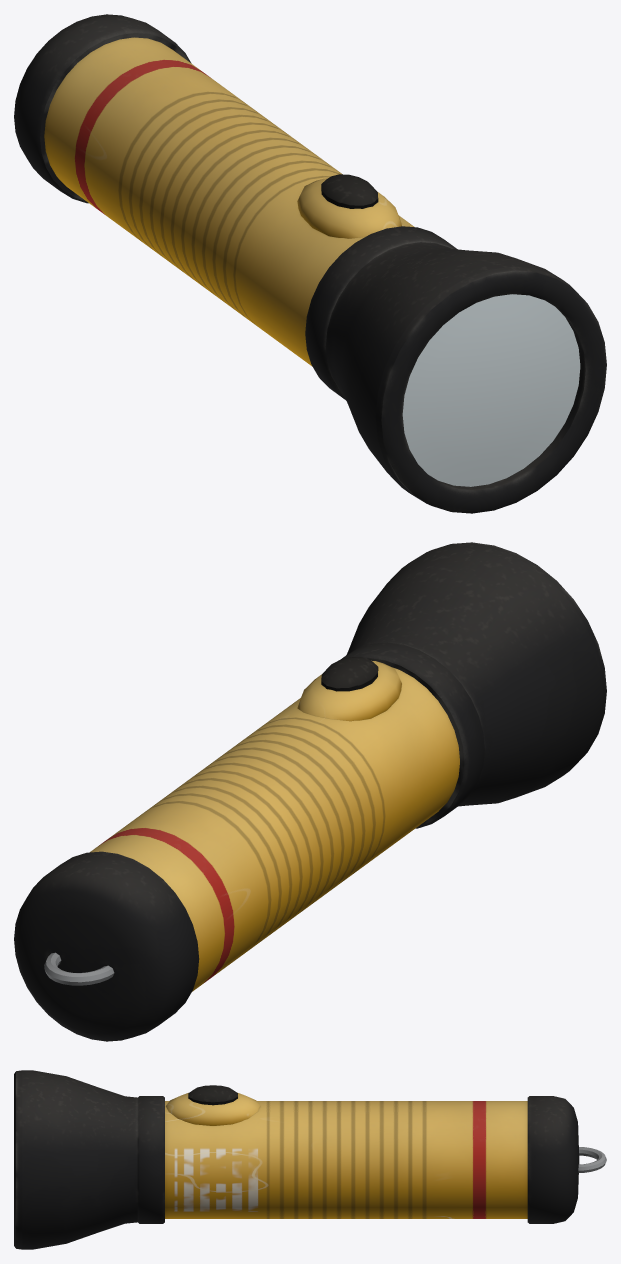
The model's file is Flashlight.fbx.
3 views of the same model, one above another, from view 1: azimuth 30°, elevation 25°; view 2: azimuth 150°, elevation 25°; view 3: azimuth 270°, elevation 25° (orthographic). The views are drawn at different scales.
Visible parts, largest first — view 1: Flashlight, FlashlightLens; view 2: Flashlight; view 3: Flashlight.
Boxes of the visible parts, bbox=[...] form: Flashlight: bbox=[14, 14, 606, 513]; FlashlightLens: bbox=[402, 294, 580, 486]; Flashlight: bbox=[14, 542, 606, 1041]; Flashlight: bbox=[14, 1070, 606, 1249].
Size of the model in its own units: 0.428 by 0.428 by 1.41.
2 materials, 1 textured.
